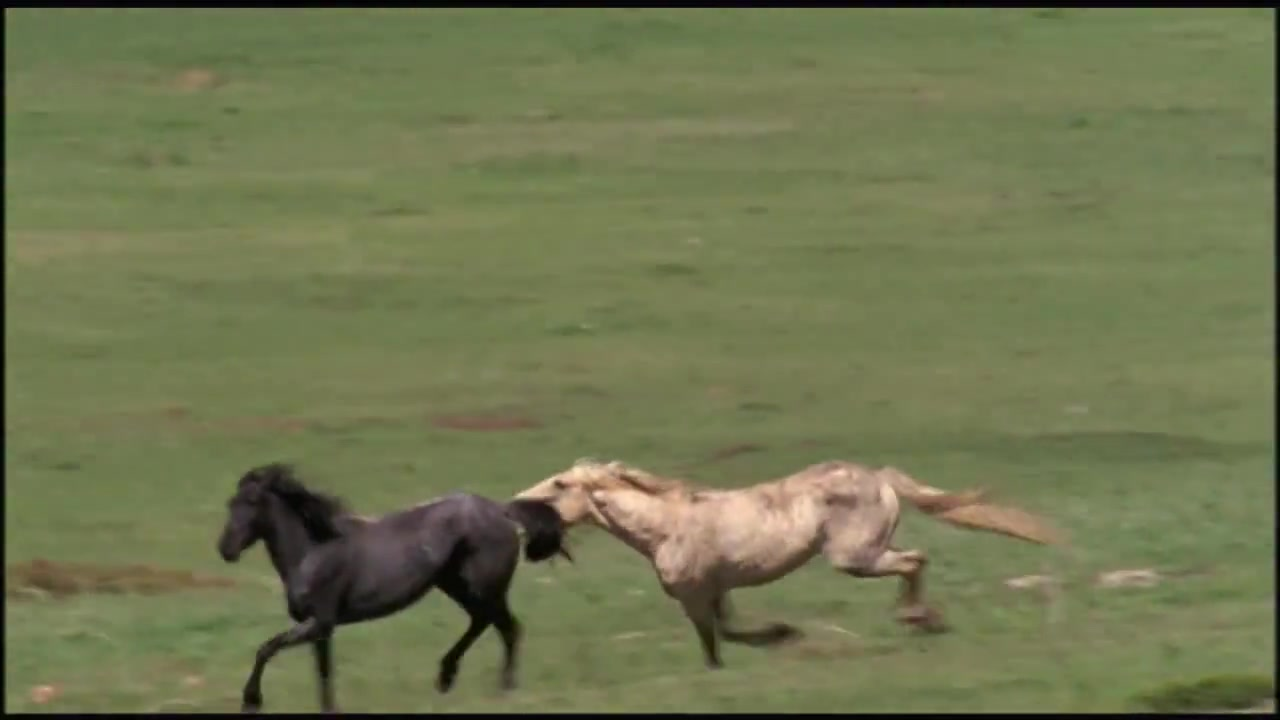horse: (217, 464, 573, 719)
